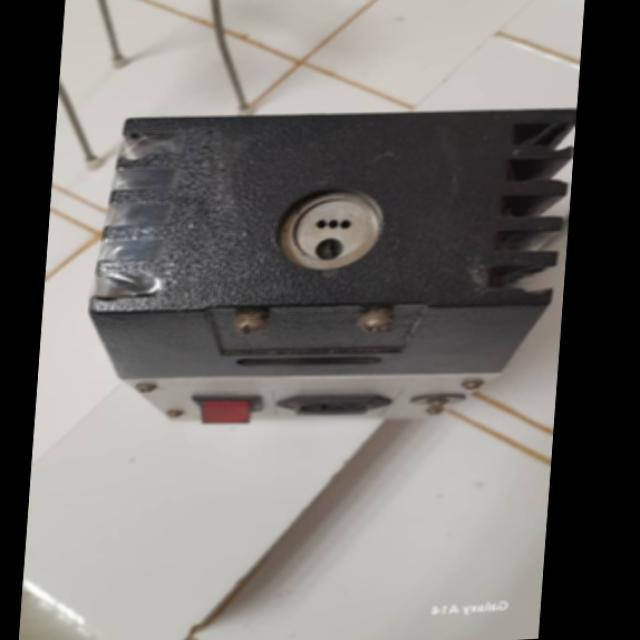Melting Point Apparatus: (80, 104, 570, 448)
